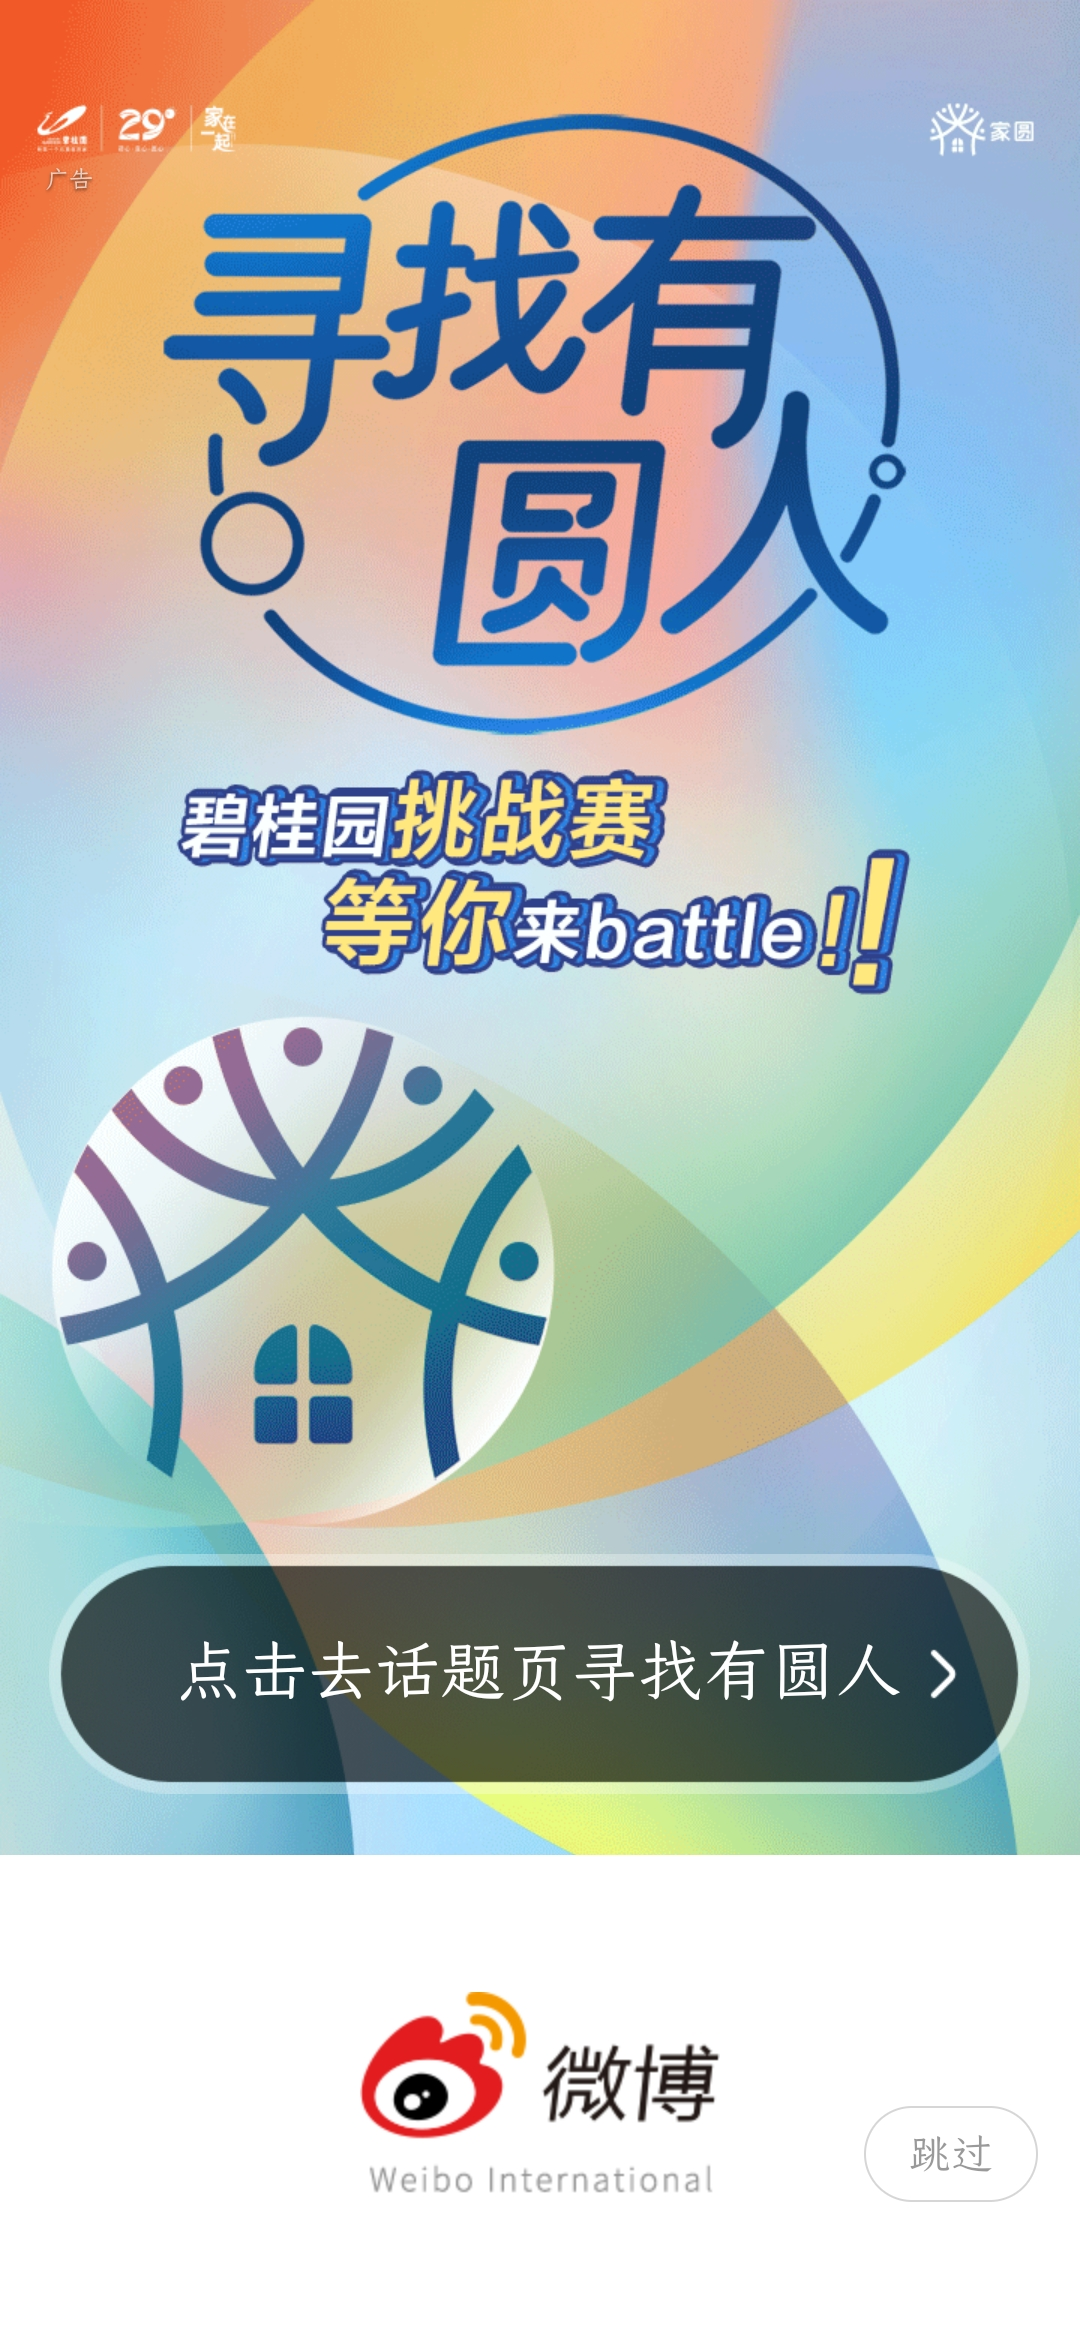skip: (897, 2112, 1004, 2197)
